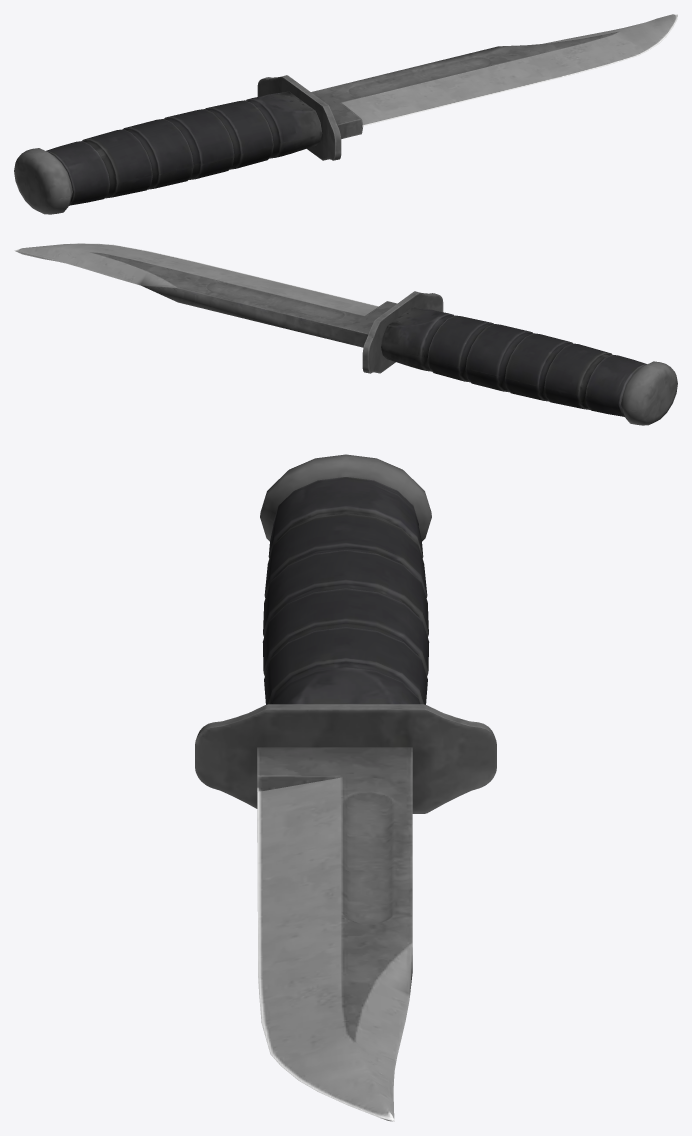
Rendered from melee.glb.
The picture shows the model from 3 angles, top to bottom: view 1: azimuth 30°, elevation 25°; view 2: azimuth 150°, elevation 25°; view 3: azimuth 270°, elevation 25°; orthographic projection. The views are drawn at different scales.
Parts seen in each view (by area): view 1: Cylinder.002_DefaultMaterial_0; view 2: Cylinder.002_DefaultMaterial_0; view 3: Cylinder.002_DefaultMaterial_0.
Part boxes in pixels (bbox=[...]): Cylinder.002_DefaultMaterial_0: bbox=[14, 14, 677, 214]; Cylinder.002_DefaultMaterial_0: bbox=[14, 243, 677, 425]; Cylinder.002_DefaultMaterial_0: bbox=[195, 454, 496, 1121].
Size of the model in its own units: 4.95 by 0.4123 by 1.02.
Materials: 1 (1 with a texture image).
